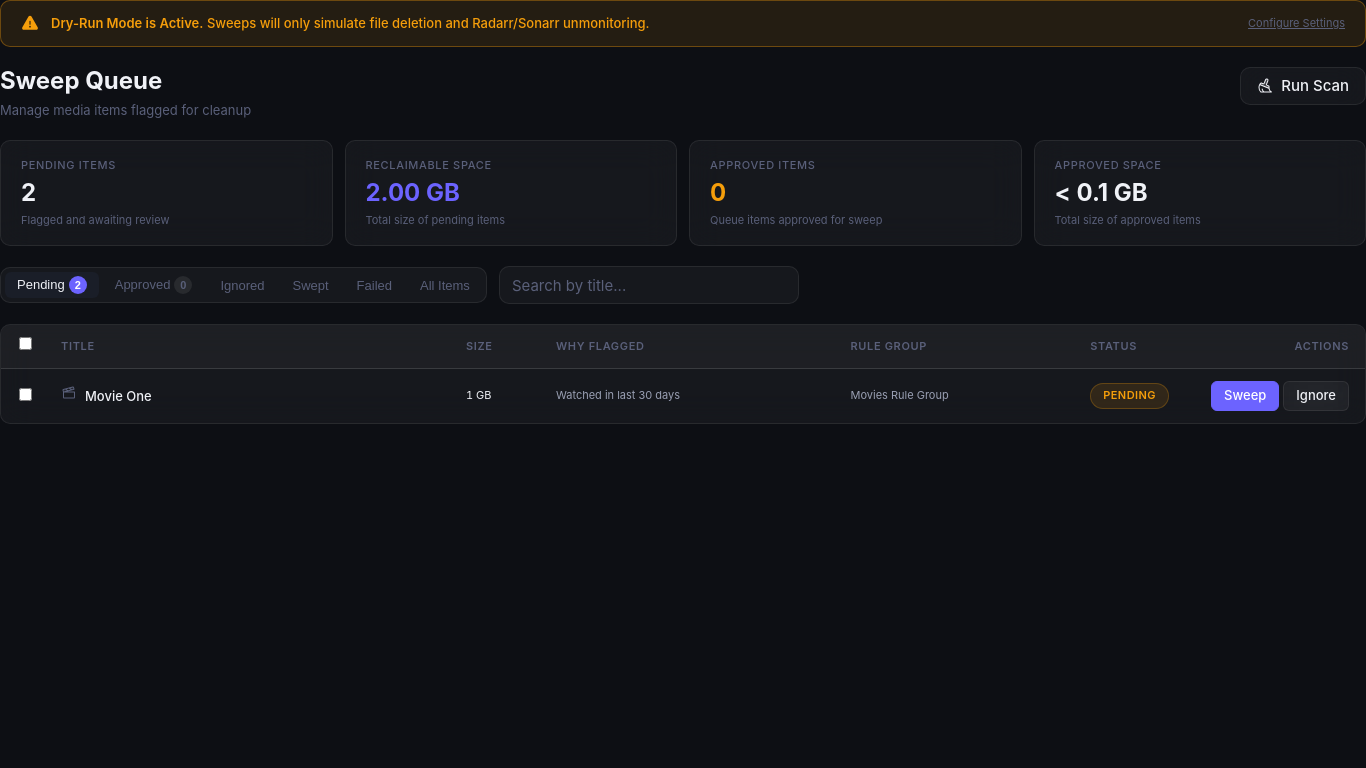
Test case: SweepPage Component › shows confirmation modal when sweeping an item
This screenshot has width=1366, height=768.
Expected: the text "Movie One" is shown, [85,386,152,406]
What coordinates should you click on to do the following:
click the button "Sweep"
I would click on:
 (1245, 396)
Its box is [1211,381,1279,411].
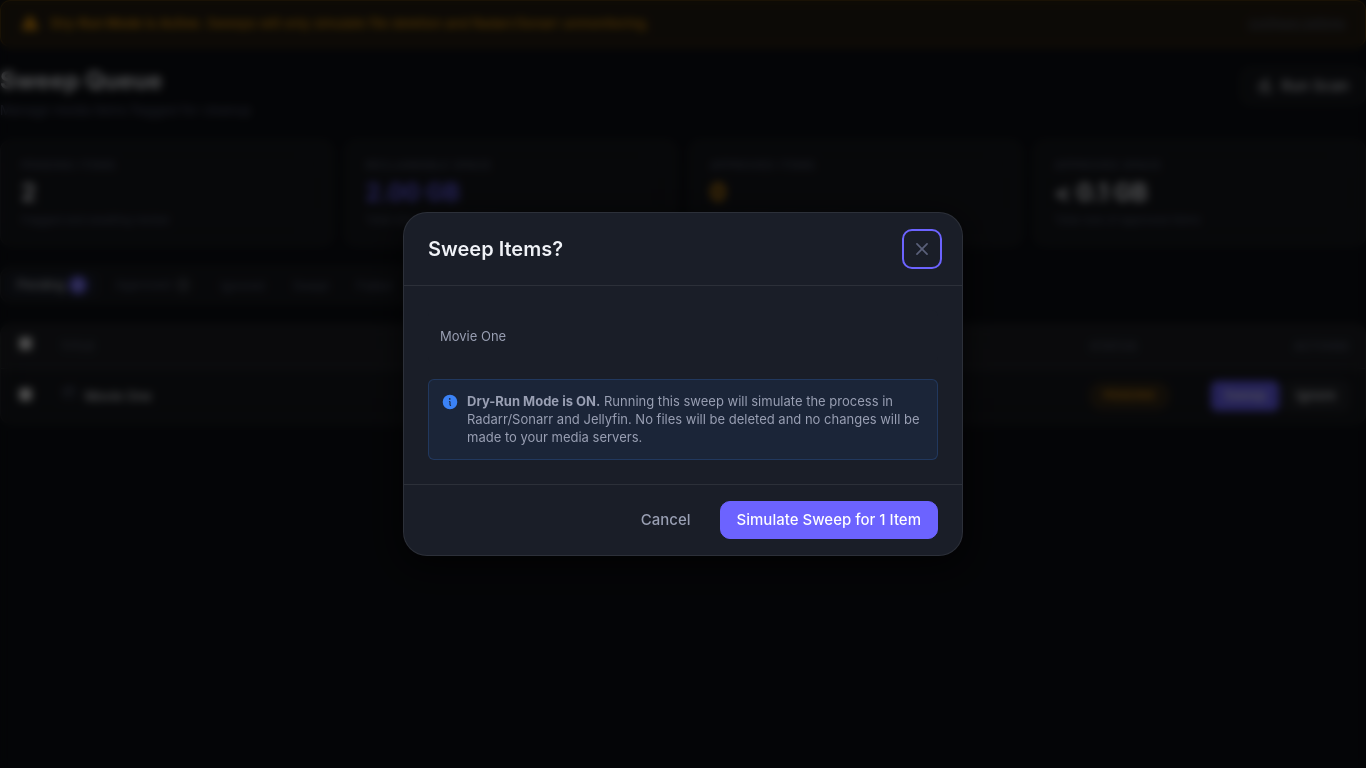
Now the text "Dry-Run Mode is ON." is shown, box [467,393,600,409]
